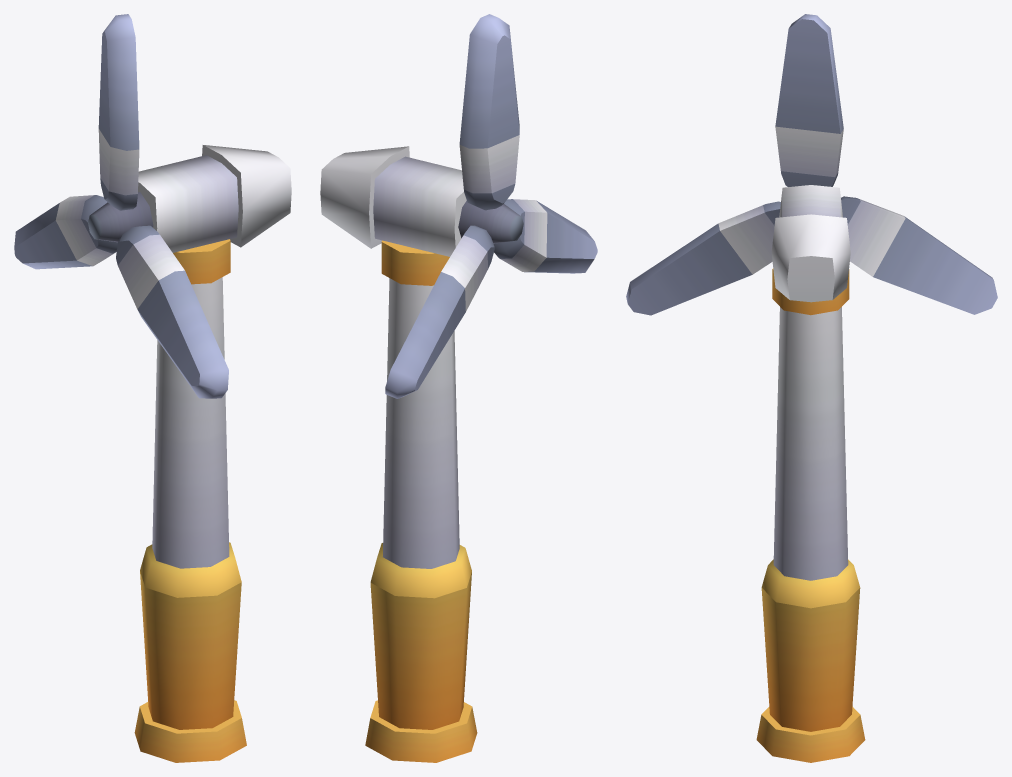
Rendered from k-city-kit-industrial-windmill.glb.
3 renders of one model, left to right at view 1: azimuth 30°, elevation 25°; view 2: azimuth 150°, elevation 25°; view 3: azimuth 270°, elevation 25°, orthographic. The views are drawn at different scales.
Parts seen in each view (by area): view 1: windmill, blades; view 2: windmill, blades; view 3: windmill, blades.
Boxes of the visible parts, left/top/right/bottom form: windmill: left=88, top=145, right=291, bottom=762; blades: left=14, top=14, right=228, bottom=398; windmill: left=320, top=146, right=523, bottom=762; blades: left=385, top=14, right=597, bottom=398; windmill: left=756, top=185, right=865, bottom=762; blades: left=626, top=14, right=997, bottom=315.
Bounding box in the file's own units: 0.6048 × 2.31 × 1.13.
1 material, 1 textured.
